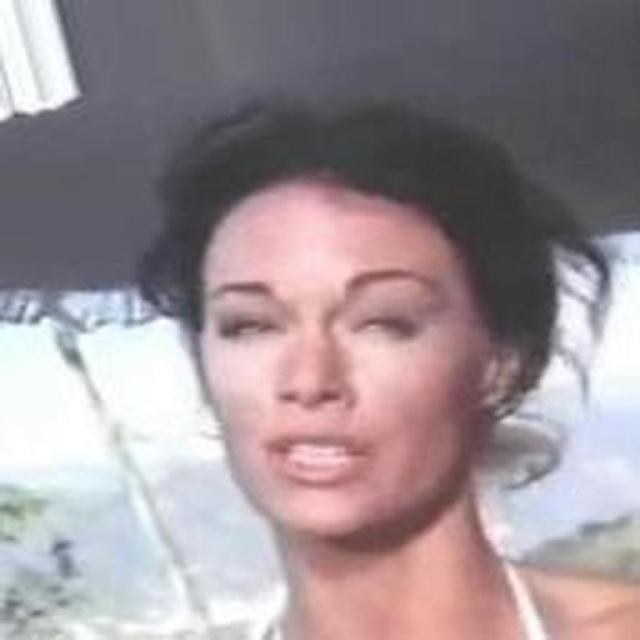bareface: (154, 129, 564, 546)
